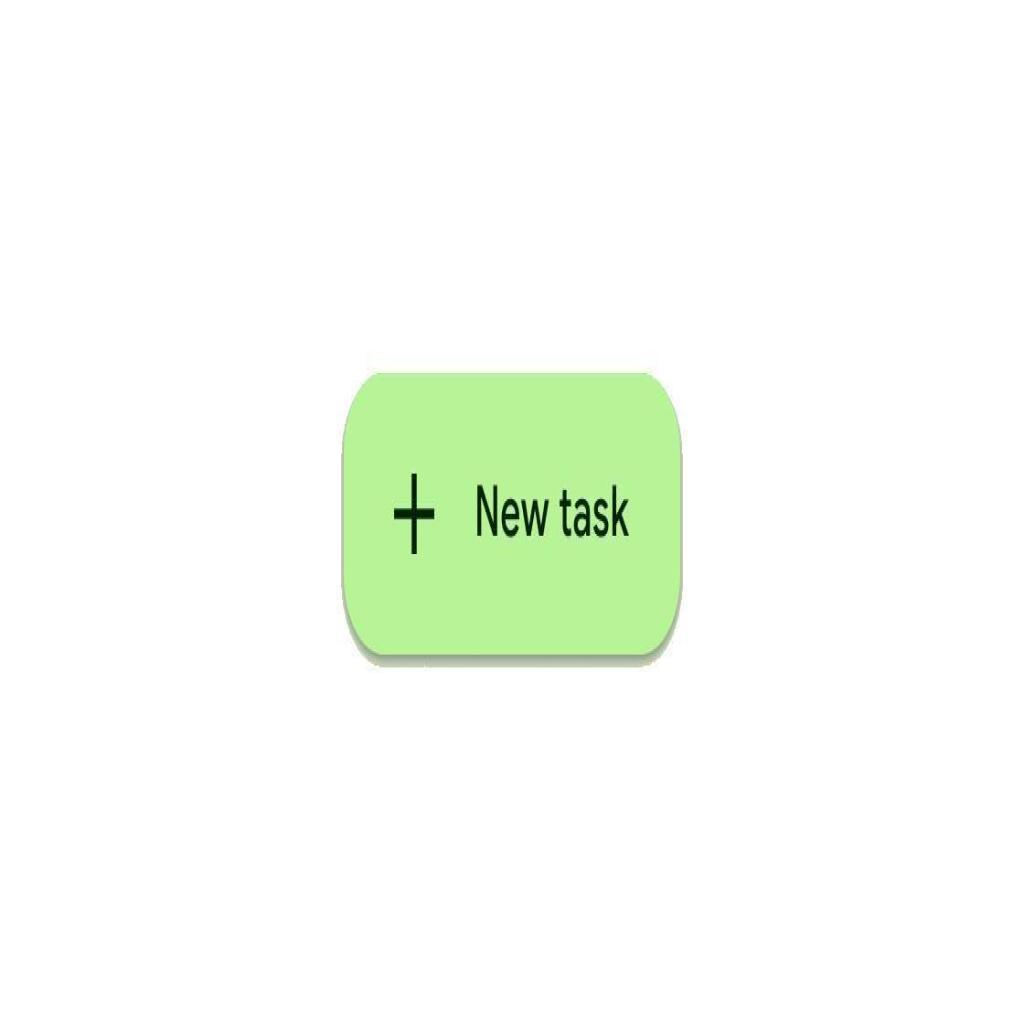button: (340, 368, 684, 660)
